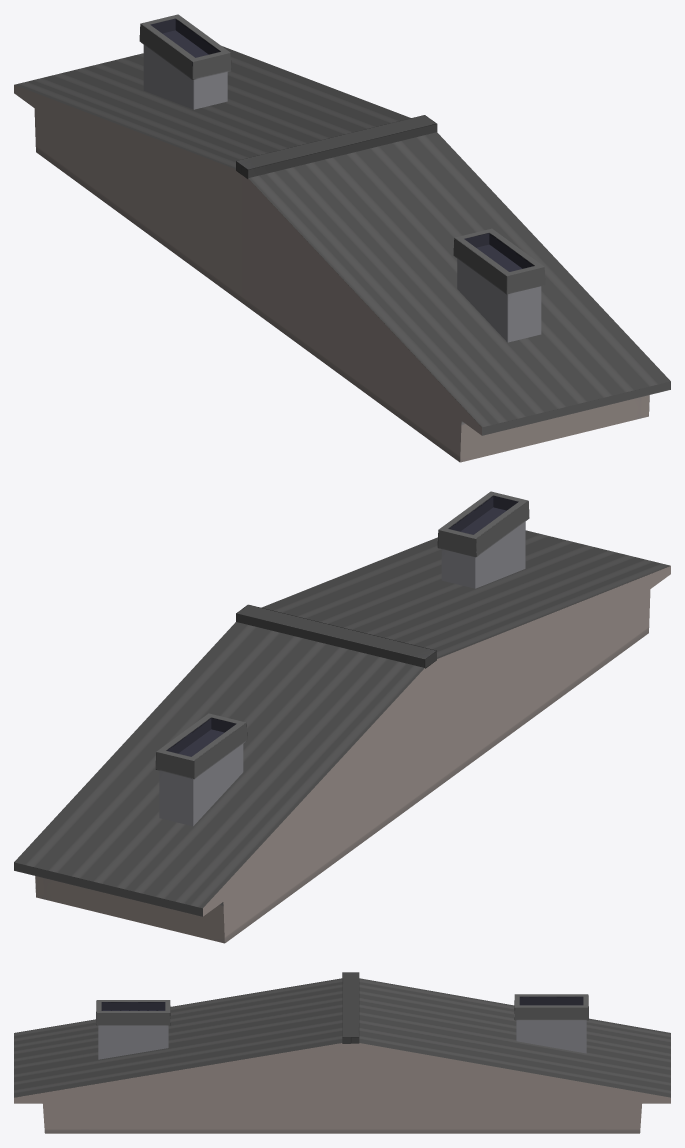
Rendered from Rooftop_Wide_type4.FBX.
The picture shows the model from 3 angles, top to bottom: view 1: azimuth 30°, elevation 25°; view 2: azimuth 150°, elevation 25°; view 3: azimuth 270°, elevation 25°; orthographic projection. The views are drawn at different scales.
Visible parts, largest first — view 1: Rooftop_Wide_type4_01; view 2: Rooftop_Wide_type4_01; view 3: Rooftop_Wide_type4_01.
Boxes of the visible parts, x1,y1,x2,y2 form: Rooftop_Wide_type4_01: (14,14,670,462); Rooftop_Wide_type4_01: (14,491,670,943); Rooftop_Wide_type4_01: (14,972,670,1133).
Bounding box in the file's own units: 814 × 572 × 3489.
Materials: 1 (1 with a texture image).
